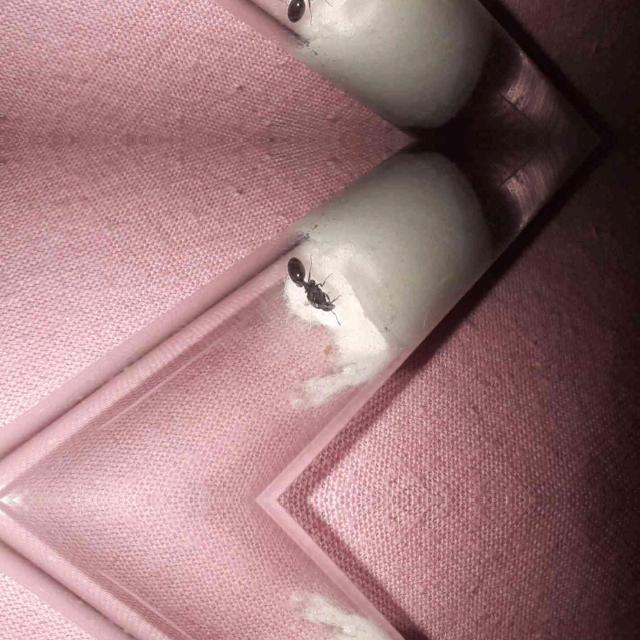Tetramorium: (284, 248, 342, 320), (283, 0, 340, 28)
